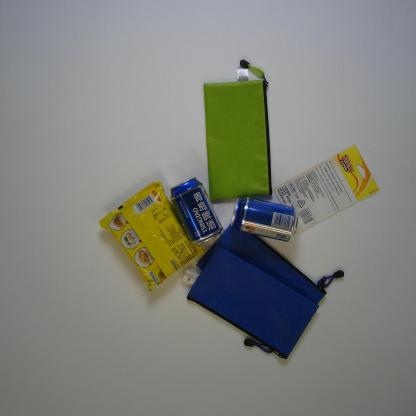Alcohol: (170, 176, 224, 249), (229, 193, 300, 244)
Instant Noodles: (98, 178, 202, 296)
Stationery: (184, 245, 321, 360), (195, 214, 346, 306), (202, 58, 274, 204), (271, 142, 381, 236)
